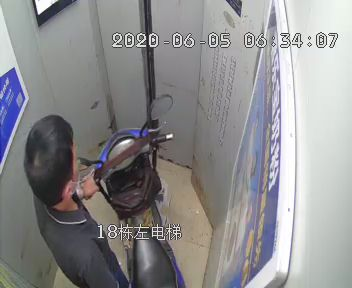Electric-bicycle: (75, 93, 184, 286)
